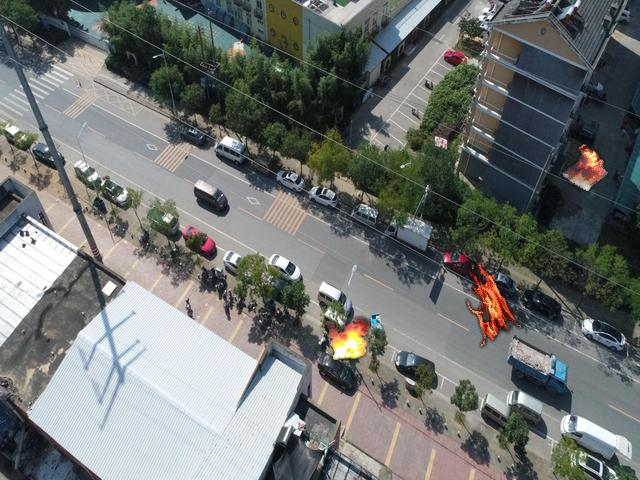fire: (461, 247, 528, 346), (559, 143, 609, 192), (325, 317, 370, 361)
